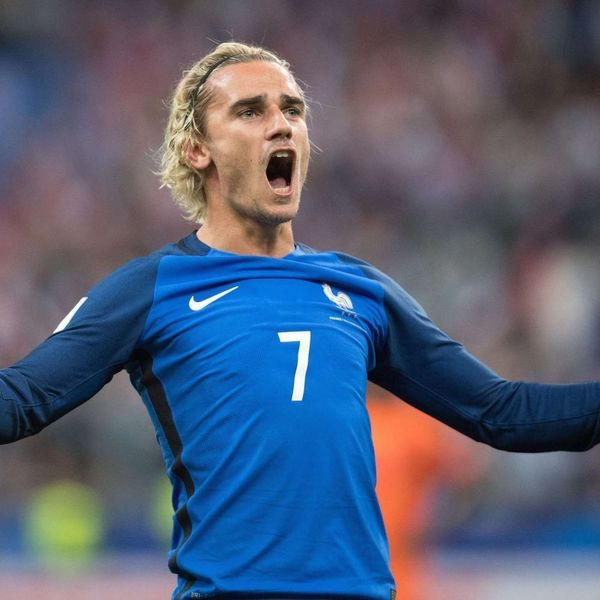nike: (183, 284, 244, 312)
